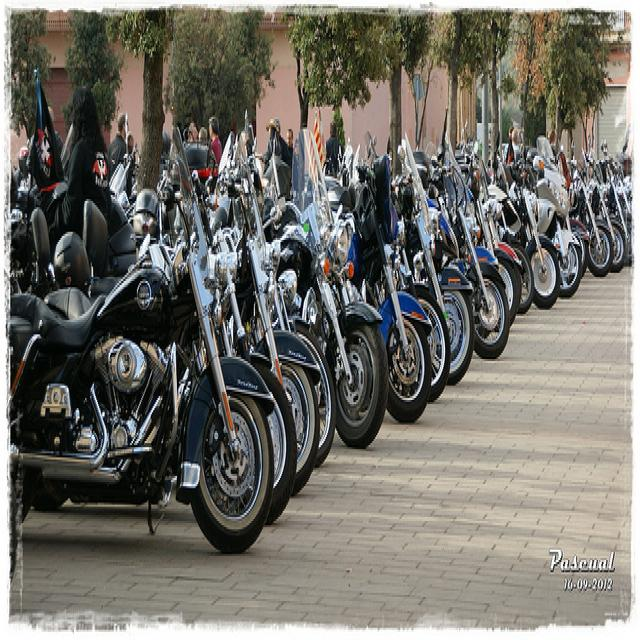motor: (12, 128, 275, 555), (263, 128, 387, 451), (220, 130, 337, 469), (194, 172, 300, 525), (324, 125, 433, 428), (225, 175, 322, 509), (423, 103, 514, 364), (400, 132, 476, 388), (455, 116, 522, 327), (389, 176, 450, 406), (525, 147, 583, 298), (507, 163, 561, 312), (485, 165, 537, 316)
